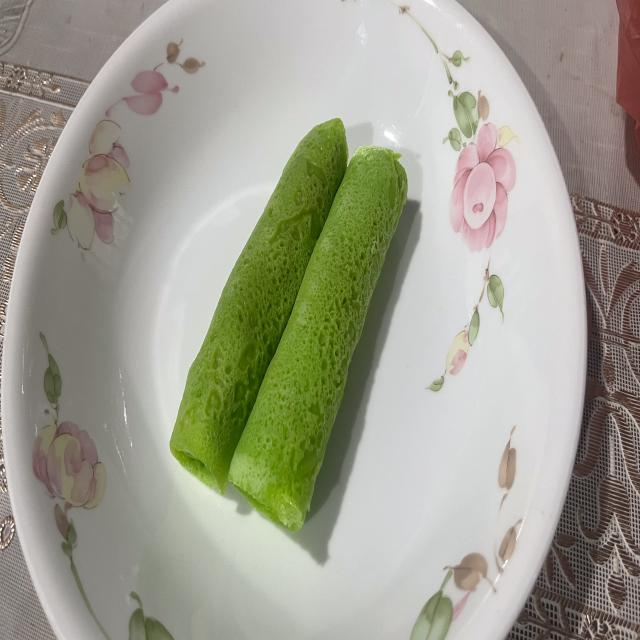Kuih-Ketayap: (230, 147, 408, 531), (170, 118, 349, 493)
